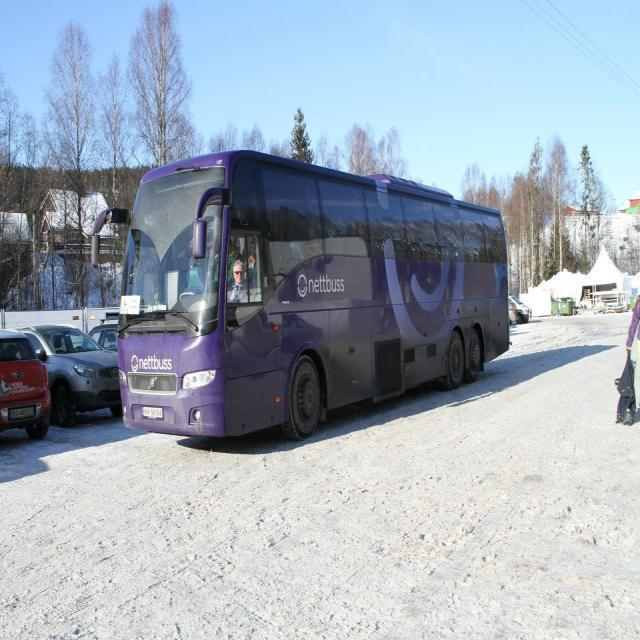Bus: (119, 151, 511, 438)
